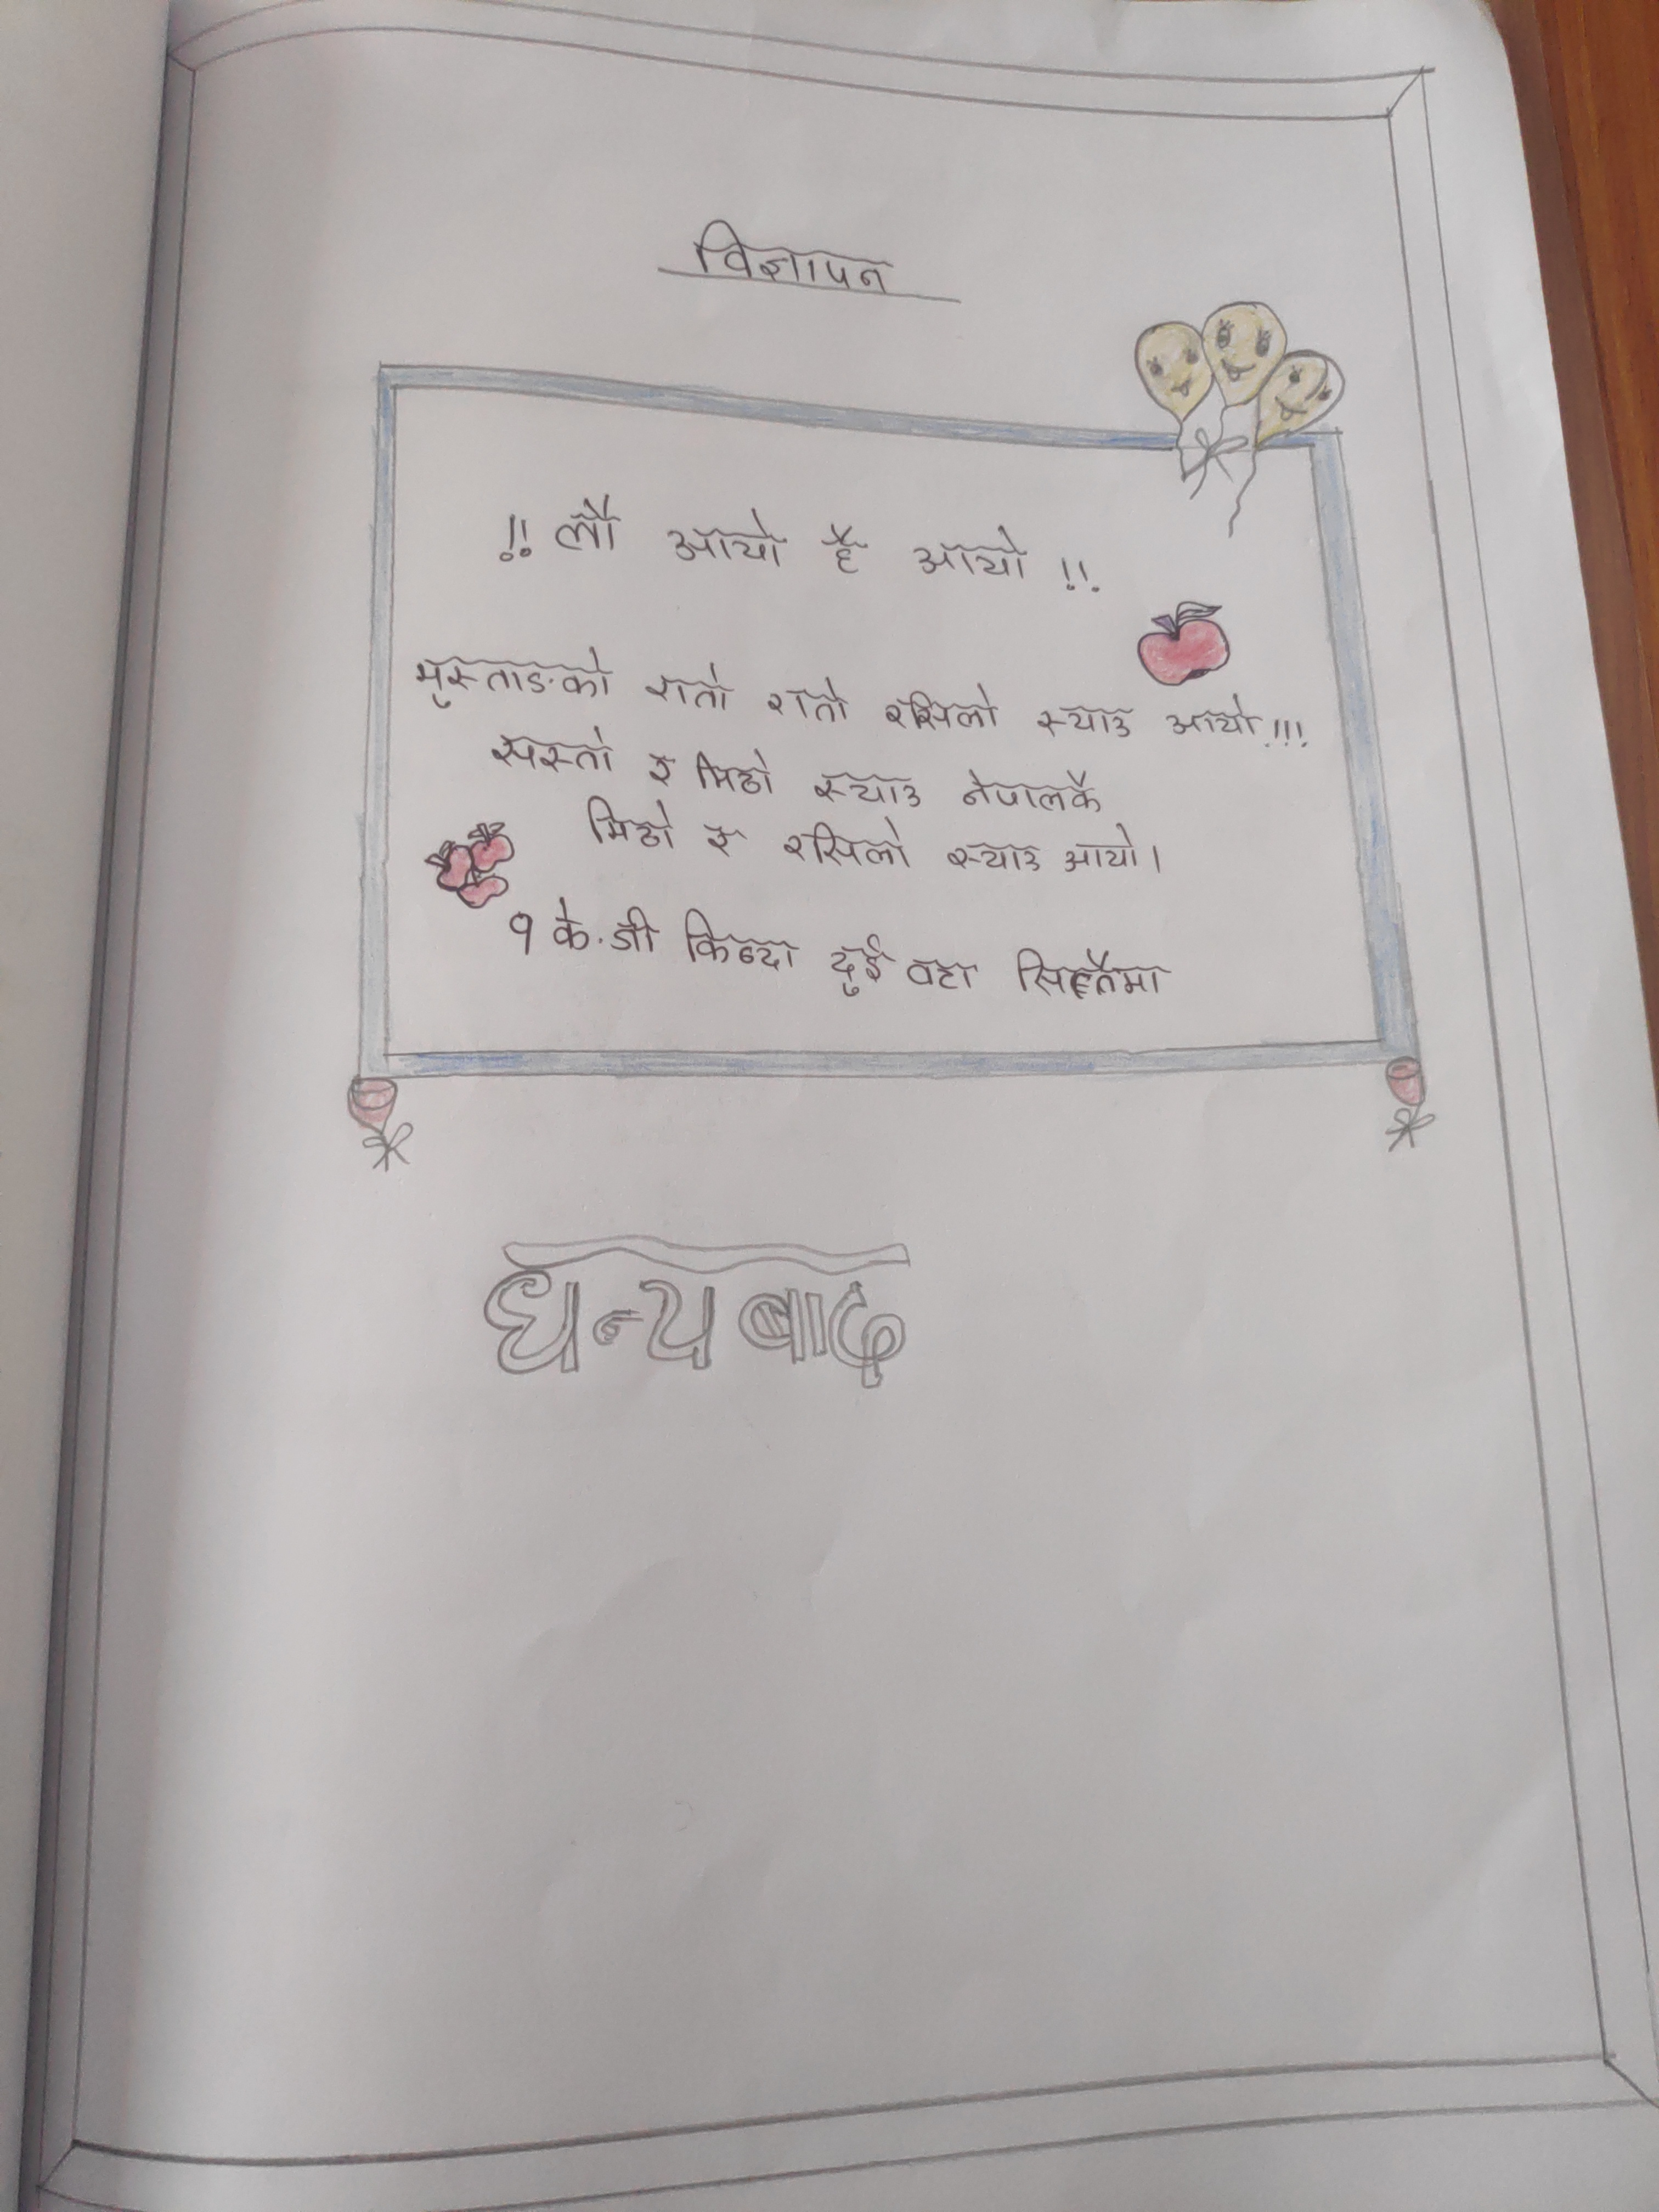text: (469, 1238, 931, 1386), (687, 219, 894, 296), (411, 639, 617, 711), (1014, 944, 1164, 1008), (680, 900, 802, 975), (953, 765, 1115, 817), (777, 813, 920, 873), (660, 510, 789, 571), (910, 521, 1030, 585), (491, 721, 617, 780), (542, 899, 664, 958), (880, 681, 1006, 735), (582, 794, 681, 853), (809, 768, 931, 813), (688, 740, 775, 801), (643, 660, 734, 716), (1159, 690, 1262, 738), (760, 676, 854, 728), (552, 495, 626, 557), (828, 934, 890, 1001), (1063, 827, 1150, 876), (1026, 704, 1136, 740), (903, 951, 985, 998), (945, 838, 1044, 876), (819, 521, 871, 575), (505, 909, 538, 960), (701, 822, 742, 859), (647, 751, 676, 791)
